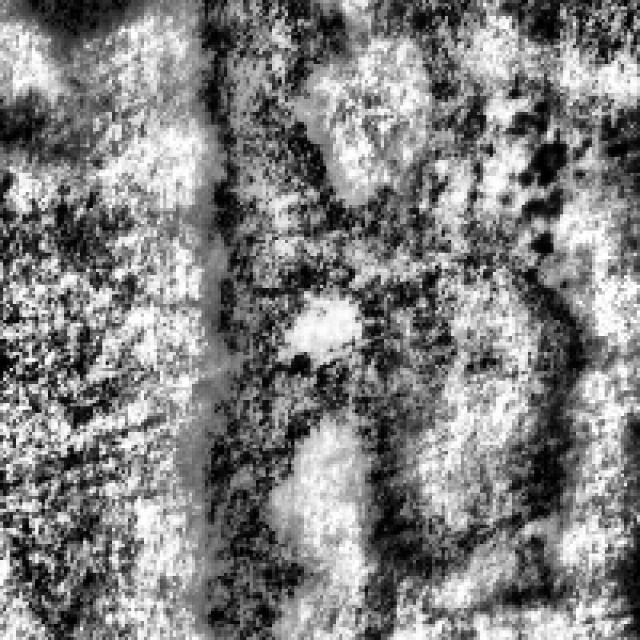Patches: (467, 76, 586, 244)
Scratches: (301, 192, 589, 627), (170, 0, 326, 490), (170, 409, 314, 636), (3, 0, 138, 48)
